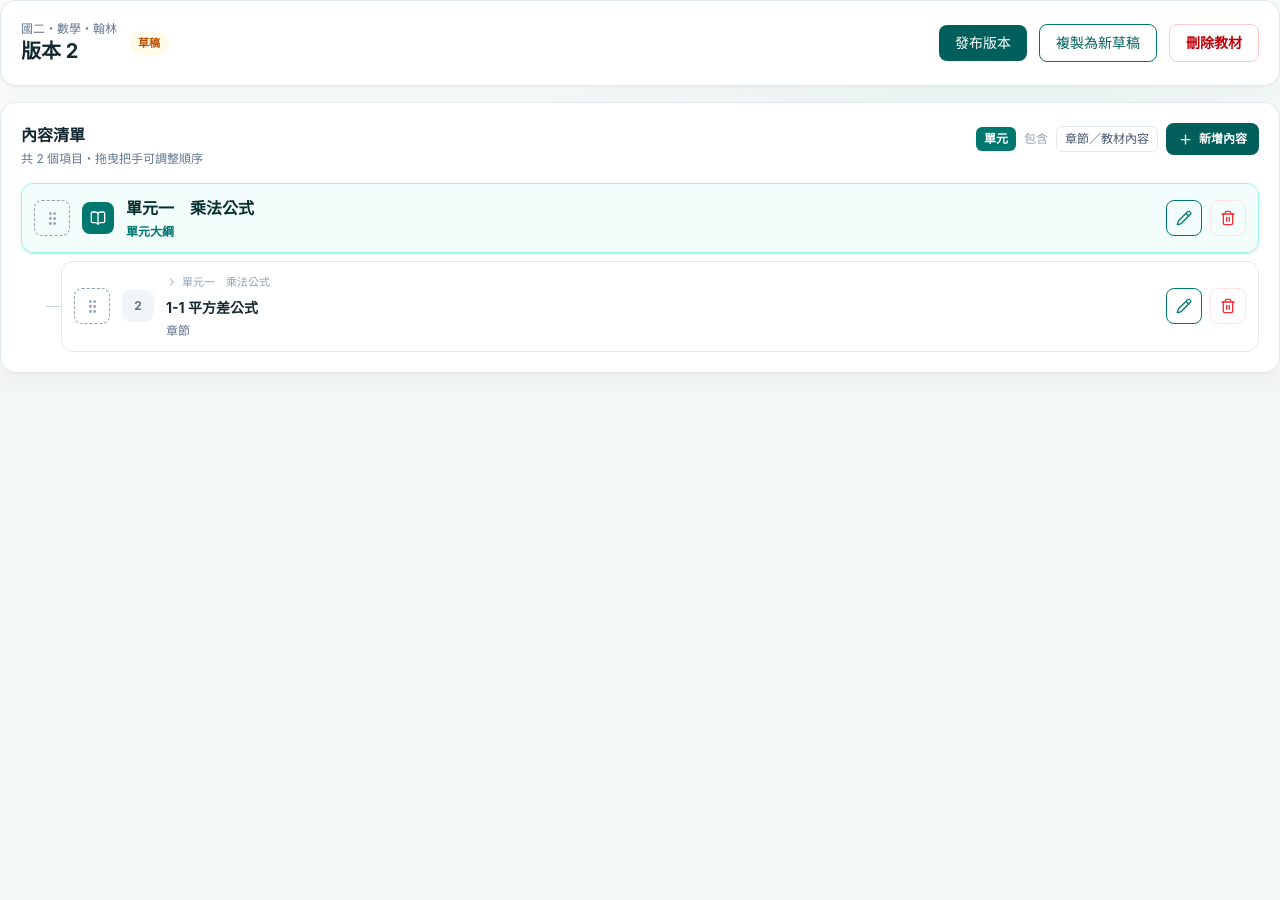
CurriculumDetailView › opens a draft item editor with title, type and parent selection
Click the button named "編輯「1-1 平方差公式」". click: (1184, 306)
box: top-left (1166, 288), bottom-right (1202, 324)
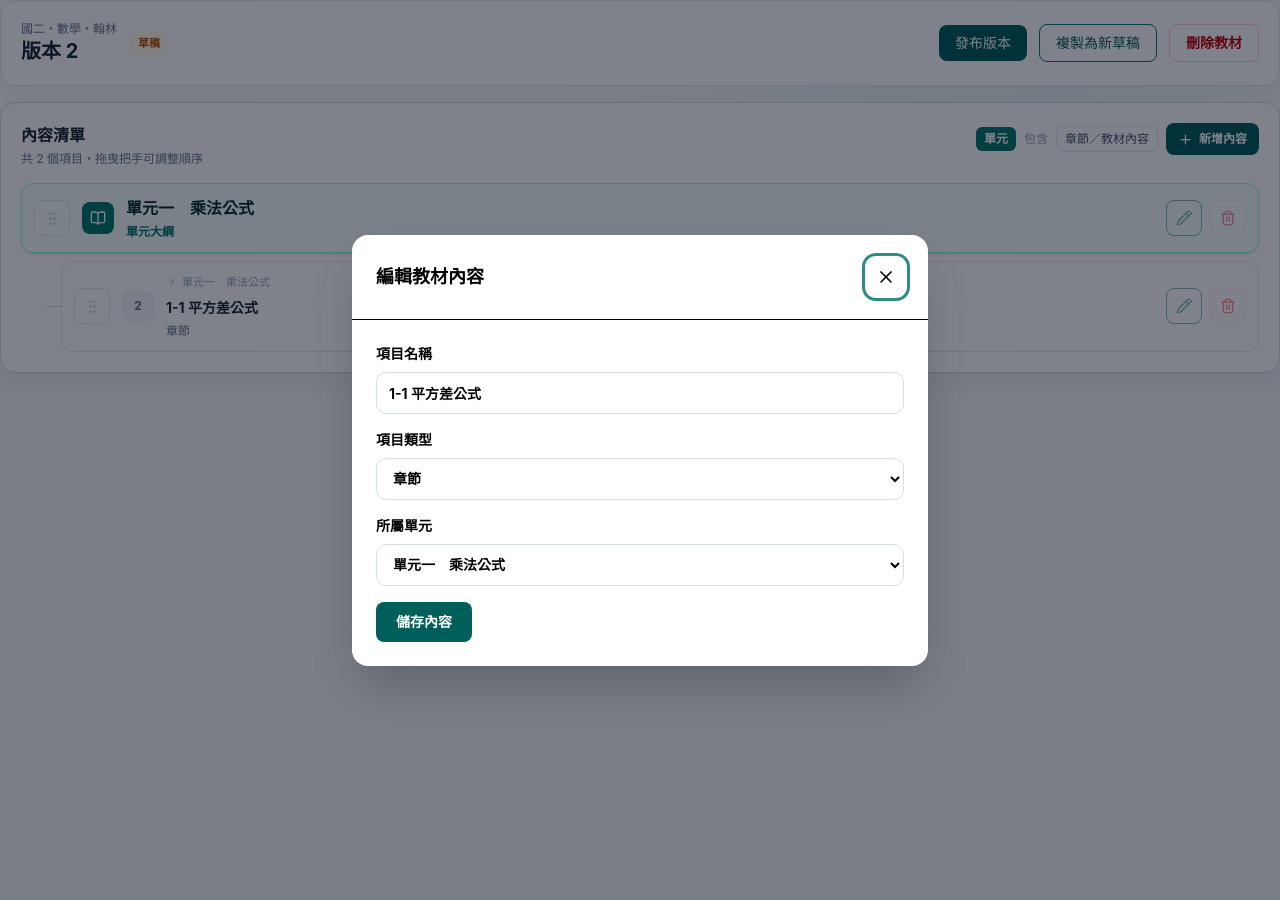
Result: the dialog "編輯教材內容" is shown at top-left (352, 234), bottom-right (928, 666)
Result: the field labelled "項目名稱" holds "1-1 平方差公式" at top-left (376, 372), bottom-right (904, 414)
Result: the dropdown labelled "項目類型" shows "章節" at top-left (376, 458), bottom-right (904, 500)
